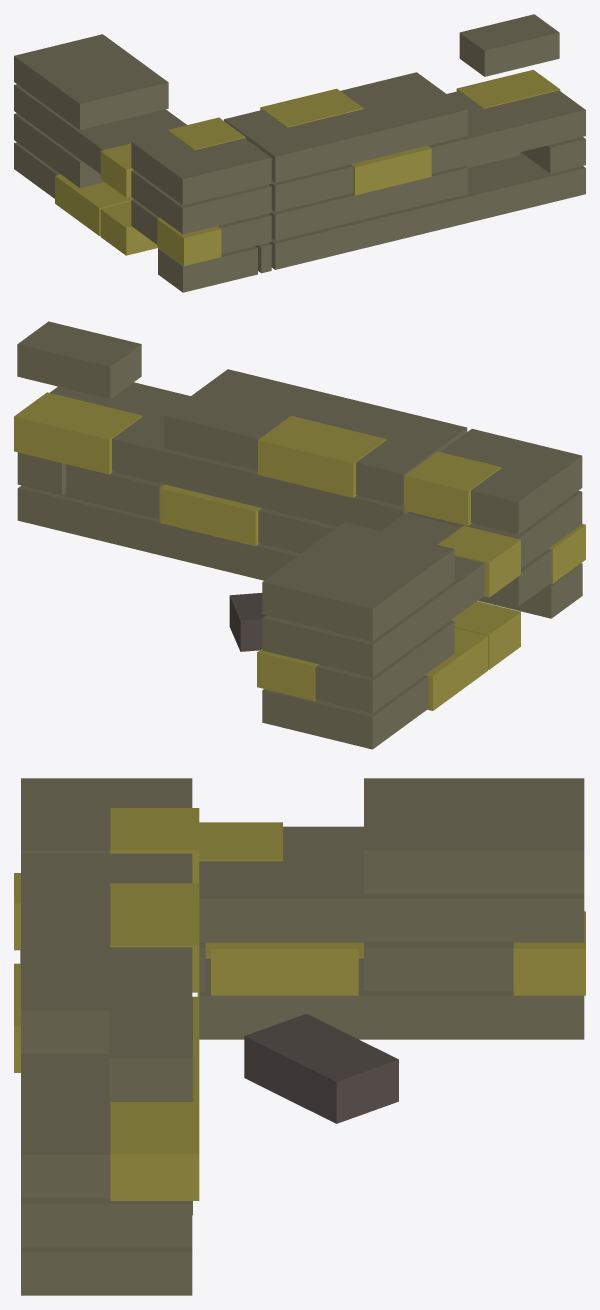
The model's file is SM_PretilEsquinaPaso_v2_Irregular_e1_Danado_LOD1.fbx.
3 views of the same model, one above another, from view 1: azimuth 30°, elevation 25°; view 2: azimuth 150°, elevation 25°; view 3: azimuth 270°, elevation 25° (orthographic). The views are drawn at different scales.
Visible parts, largest first — view 1: SM_pretil_azotea_v49_LOD1; view 2: SM_pretil_azotea_v49_LOD1; view 3: SM_pretil_azotea_v49_LOD1.
Boxes of the visible parts, <box> form: SM_pretil_azotea_v49_LOD1: <box>14,14,585,292</box>; SM_pretil_azotea_v49_LOD1: <box>14,321,585,749</box>; SM_pretil_azotea_v49_LOD1: <box>14,778,585,1295</box>.
Bounding box in the file's own units: 4.41 × 1.49 × 3.21.
